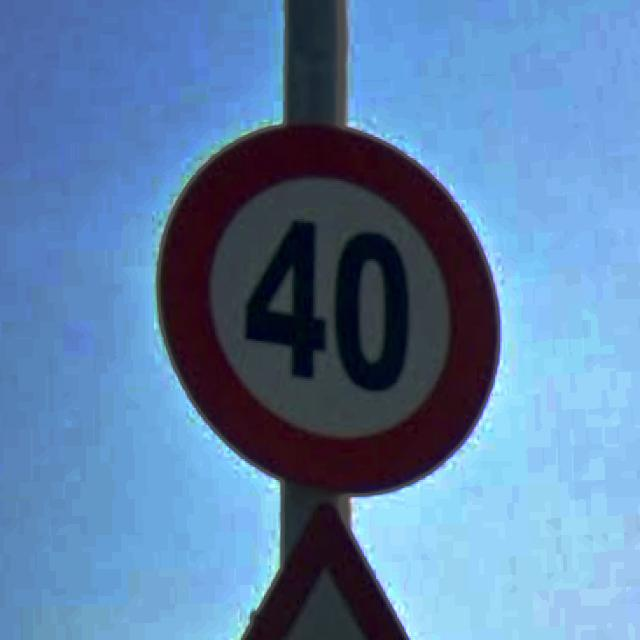max40: (154, 118, 502, 495)
